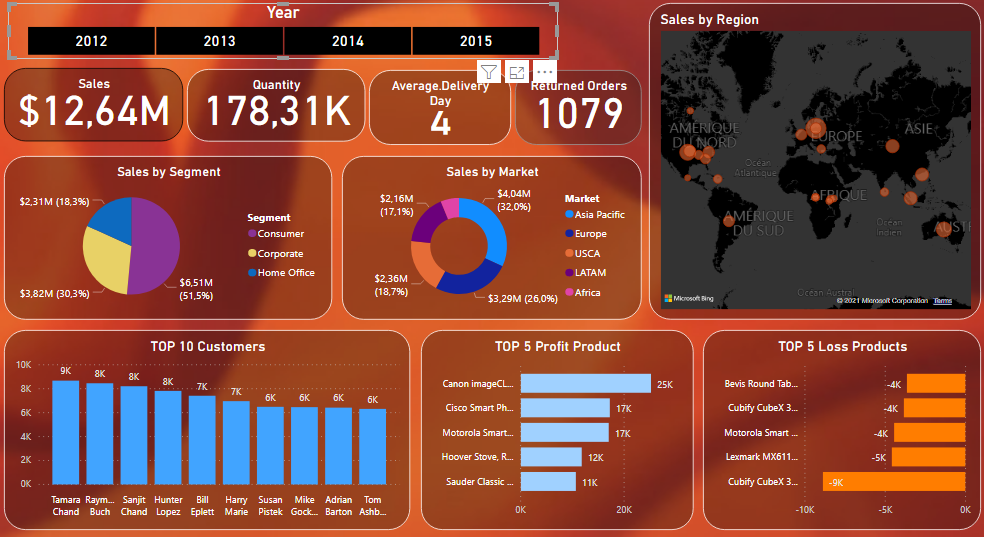

What the dashboard file says about the page in this screenshot:
{"tool":"powerbi","page":{"name":"Page 1","canvas":[1280,720],"ordinal":0},"visuals":[{"type":"card","title":"Sales","fields":{"Values":["Orders.Sales"]},"box":[5.7,95.3,231.9,95.3],"z":0},{"type":"card","title":"Quantity","fields":{"Values":["Orders.Quantity"]},"box":[241.9,96.8,230.5,93.9],"z":1000},{"type":"card","title":"Average.Delivery Day","fields":{"Values":["Orders.Delivery Day"]},"box":[478.1,98.2,183.6,96.8],"z":2000},{"type":"slicer","title":"Year","fields":{"Values":["Orders.Year"]},"box":[10.1,11.8,712.2,72.2],"z":3000},{"type":"card","title":"Returned Orders","fields":{"Values":["Returns.Return Orders"]},"box":[667.4,98.2,163.6,96.8],"z":4000},{"type":"map","fields":{"Category":["Orders.Region"],"Size":["Orders.Sales"]},"box":[840.9,11.4,429.7,409.8],"z":5000},{"type":"clusteredBarChart","title":"TOP 5 Profit Product","fields":{"Category":["Orders.Product Name"],"Y":["Orders.Profit"]},"box":[545,435.4,352.9,259],"z":6000},{"type":"clusteredBarChart","title":"TOP 5 Loss Products","fields":{"Category":["Orders.Product Name"],"Y":["Orders.Profit"]},"box":[910.7,435.4,360,259],"z":7000},{"type":"pieChart","fields":{"Category":["Orders.Segment"],"Y":["Orders.Sales"]},"box":[5.7,209.2,425.5,212],"z":7001},{"type":"donutChart","fields":{"Y":["Orders.Sales"],"Category":["Orders.Market"]},"box":[442.5,209.2,388.5,212],"z":7002},{"type":"clusteredColumnChart","title":"TOP 10 Customers","fields":{"Y":["Orders.Profit"],"Category":["Orders.Customer Name"]},"box":[5.7,435.4,526.5,259],"z":7003}]}

Visuals, with their boxes in screenshot pixels (x1, y1, x2, y2):
"Sales" card: rect(9, 68, 187, 141)
"Quantity" card: rect(190, 69, 366, 141)
"Average.Delivery Day" card: rect(370, 70, 511, 144)
"Year" slicer: rect(13, 4, 557, 59)
"Returned Orders" card: rect(515, 70, 640, 144)
map - Orders.Region x Orders.Sales: rect(648, 4, 976, 317)
"TOP 5 Profit Product" clusteredBarChart: rect(422, 328, 691, 526)
"TOP 5 Loss Products" clusteredBarChart: rect(701, 328, 976, 526)
pieChart - Orders.Segment x Orders.Sales: rect(9, 155, 335, 317)
donutChart - Orders.Sales x Orders.Market: rect(343, 155, 640, 317)
"TOP 10 Customers" clusteredColumnChart: rect(9, 328, 412, 526)
